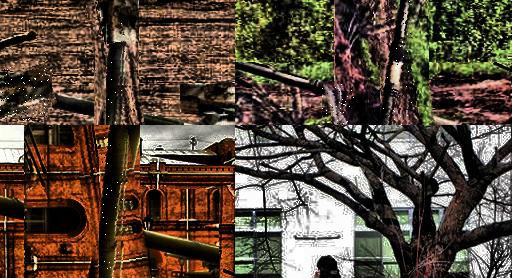tanks: (100, 126, 128, 278), (384, 1, 411, 126), (1, 68, 50, 122), (107, 1, 126, 126), (323, 86, 349, 126), (1, 33, 35, 49), (236, 78, 253, 89)
